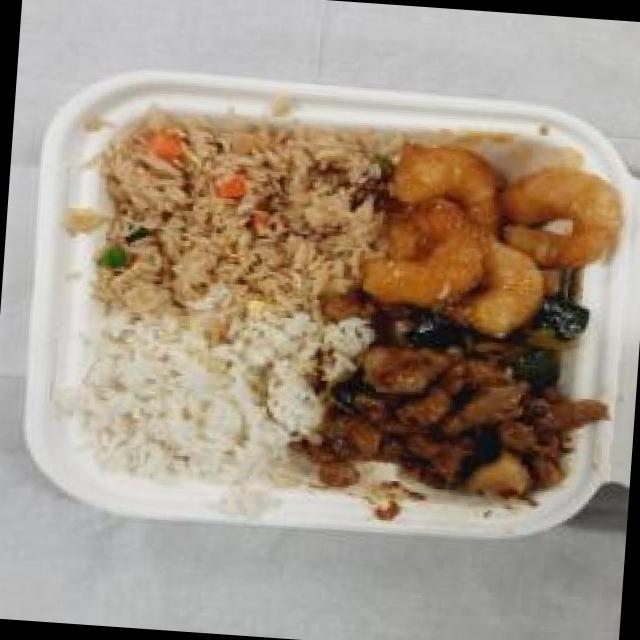Fried Rice: (95, 112, 373, 330)
Honey Walnut Shrimp: (352, 135, 630, 346)
Kung Pao Chicken: (318, 318, 608, 507)
White Steamed Rice: (70, 308, 316, 497)
